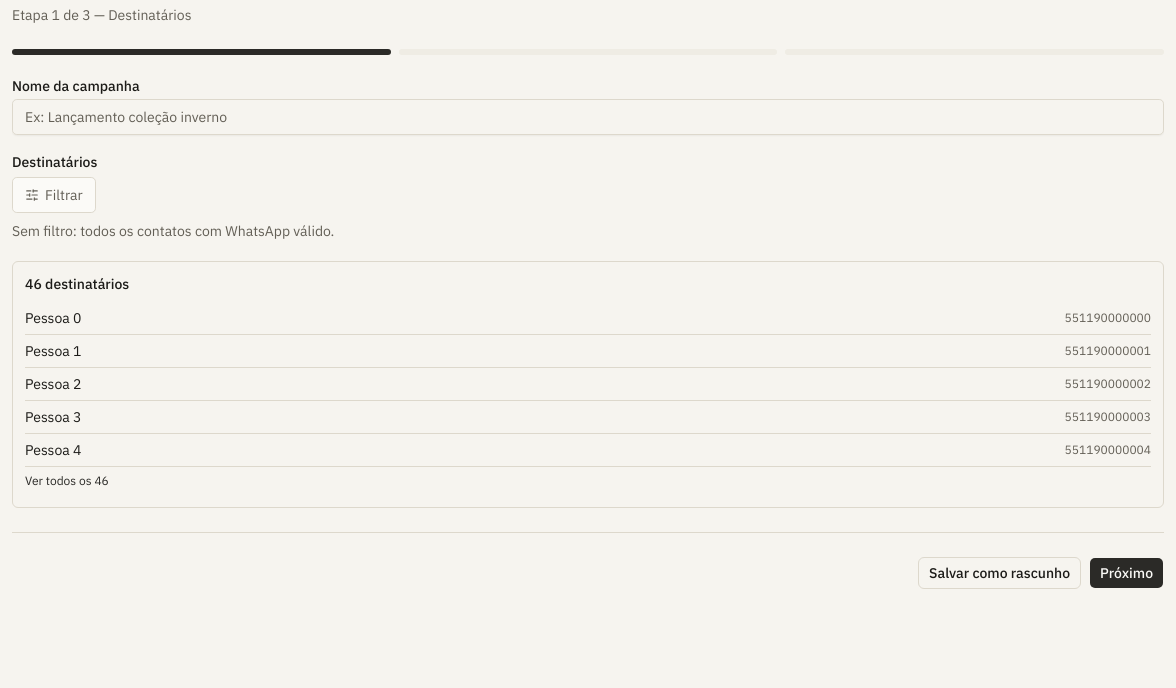
Test: B48-18 — Rótulos padronizados › CA-B48-45: a campanha tem "Ver todos os N" na lista de destinatários (C-35)
Expected: the text "Pessoa 4" is shown, [25,440,82,460]
Click the button "Ver todos os 46".
click(67, 480)  # box [25,466,109,494]
(page scrolled)
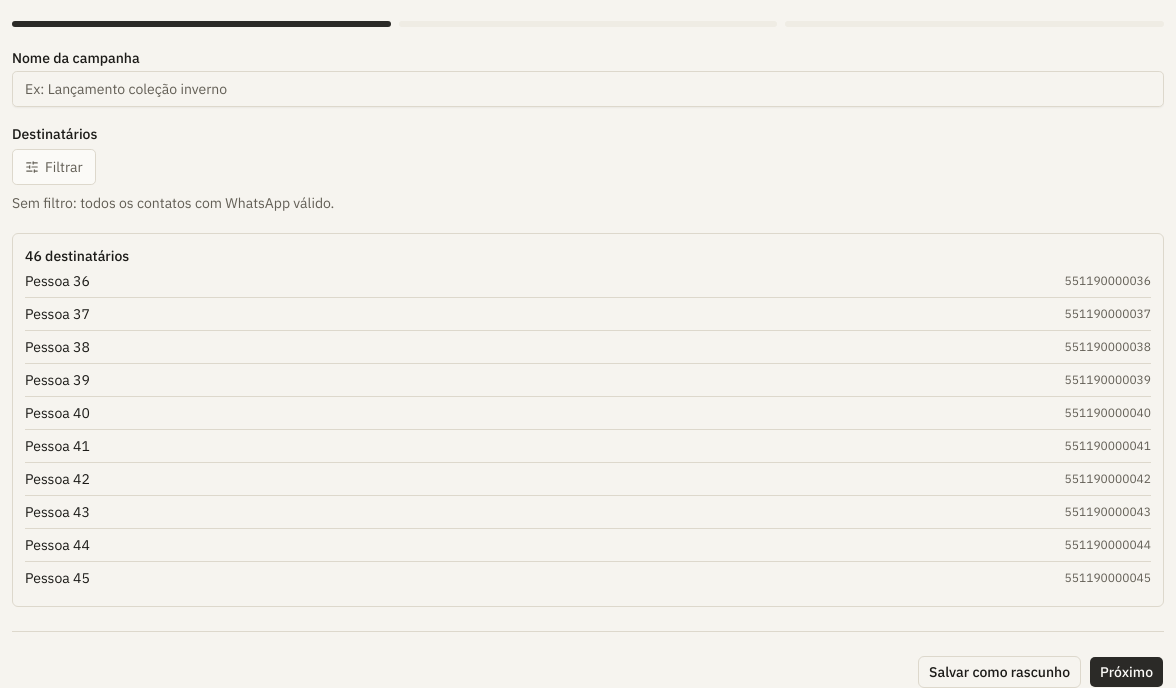
Result: the text "Pessoa 45" is shown at [25,568,90,588]
Result: the button "Ver todos" is gone
